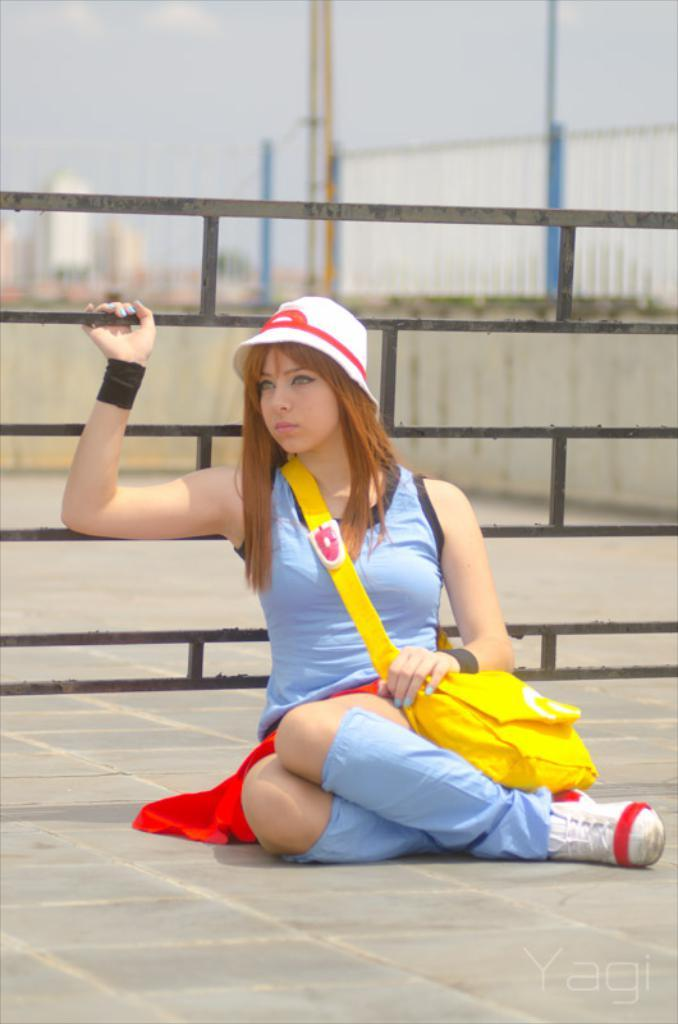Hat: (233, 297, 371, 403)
